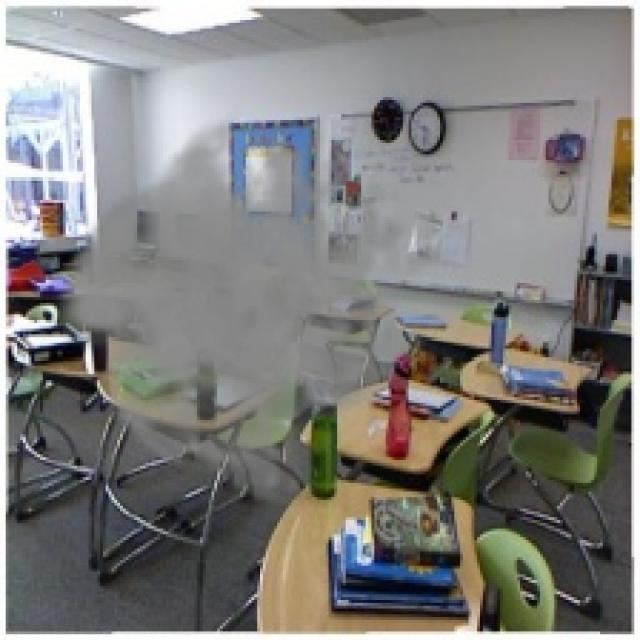smoke: (51, 103, 428, 508)
